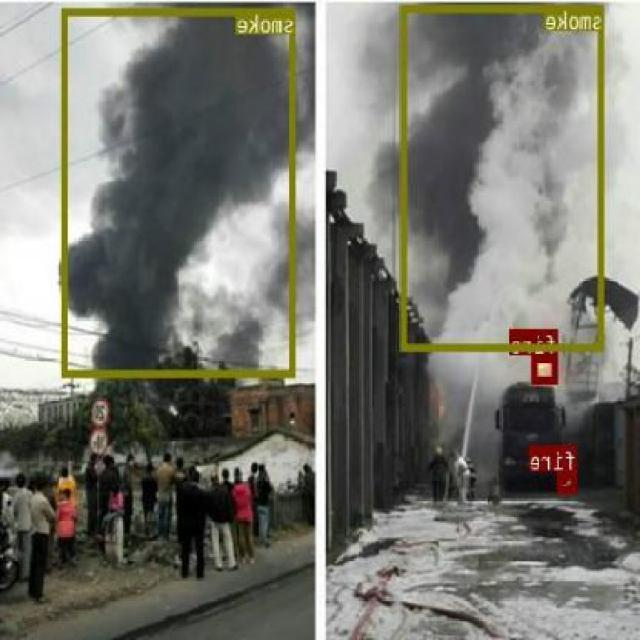Fire: (533, 354, 559, 382), (558, 470, 578, 492)
Smoke: (62, 7, 296, 376), (402, 4, 606, 350)
